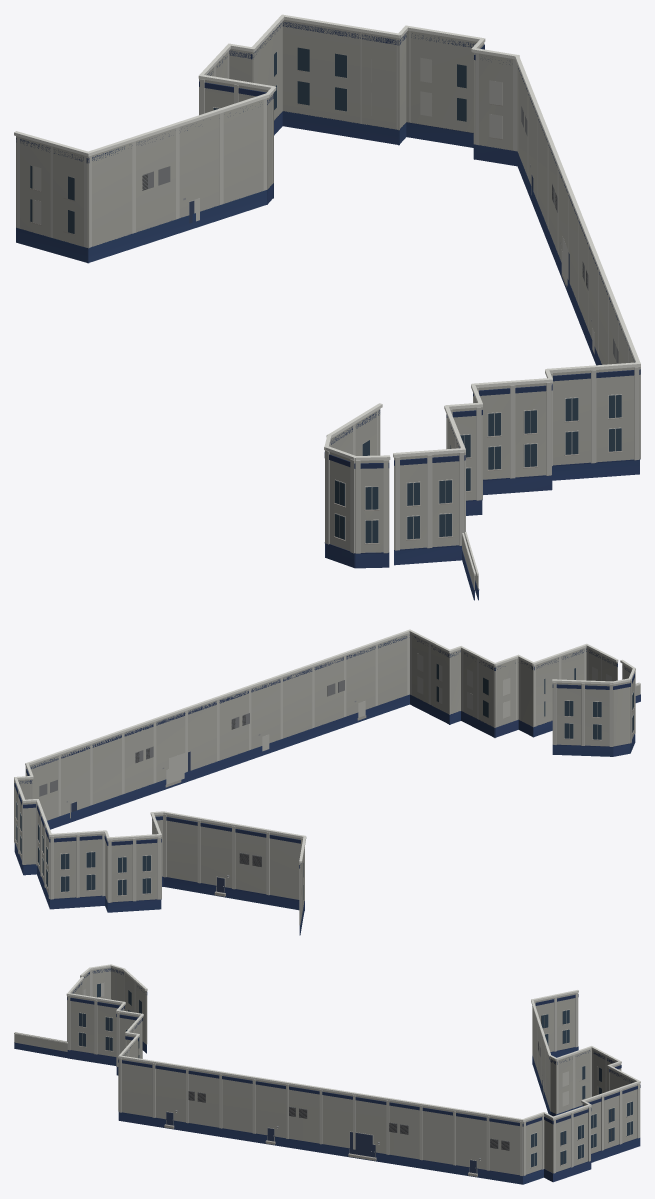
Rendered from hollywood-fillers.glb.
The picture shows the model from 3 angles, top to bottom: view 1: azimuth 30°, elevation 25°; view 2: azimuth 150°, elevation 25°; view 3: azimuth 270°, elevation 25°; orthographic projection. The views are drawn at different scales.
Parts seen in each view (by area): view 1: hollywood-fillers-paint, hollywood-fillers-concrete, hollywood-fillers-glass; view 2: hollywood-fillers-paint, hollywood-fillers-concrete, hollywood-fillers-glass; view 3: hollywood-fillers-paint, hollywood-fillers-concrete, hollywood-fillers-glass.
Boxes of the visible parts, left/top/right/bottom form: hollywood-fillers-paint: left=16, top=19, right=640, bottom=590; hollywood-fillers-concrete: left=14, top=14, right=640, bottom=600; hollywood-fillers-glass: left=30, top=47, right=621, bottom=543; hollywood-fillers-paint: left=14, top=633, right=640, bottom=925; hollywood-fillers-concrete: left=14, top=629, right=640, bottom=935; hollywood-fillers-glass: left=16, top=664, right=633, bottom=899; hollywood-fillers-paint: left=14, top=967, right=640, bottom=1176; hollywood-fillers-concrete: left=14, top=964, right=640, bottom=1184; hollywood-fillers-glass: left=79, top=983, right=632, bottom=1167.
Size of the model in its own units: 61.55 by 11.9 by 104.
